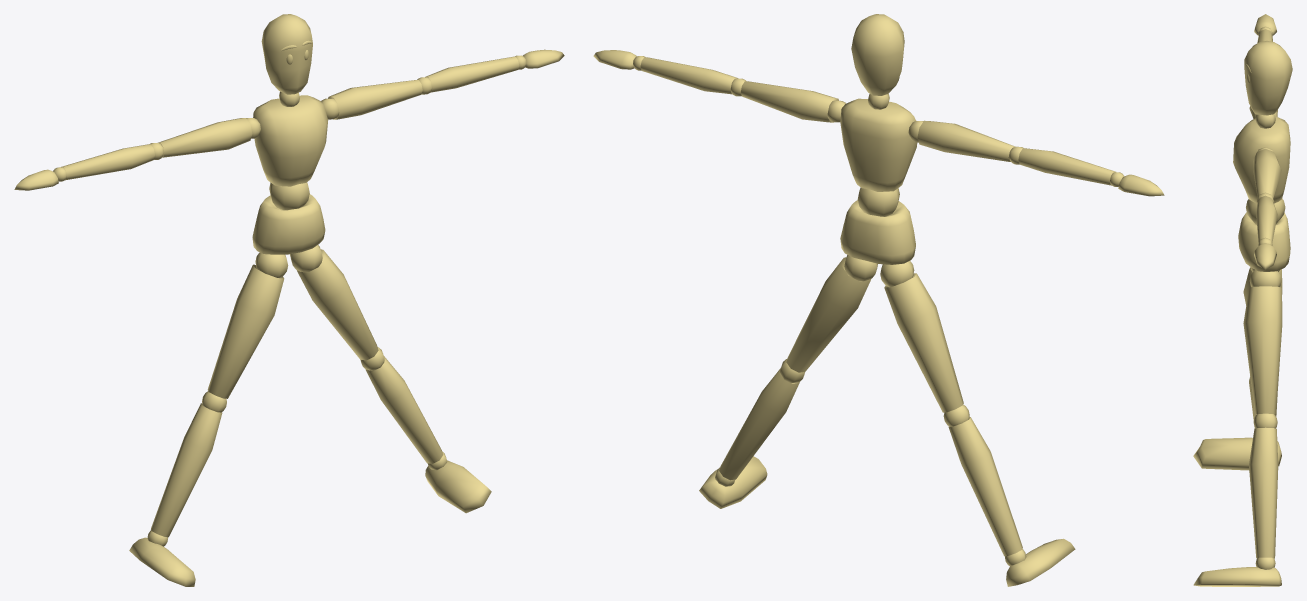
Rendered from MannaquinFace.dae.
The picture shows the model from 3 angles, left to right: view 1: azimuth 30°, elevation 25°; view 2: azimuth 150°, elevation 25°; view 3: azimuth 270°, elevation 25°; orthographic projection. The views are drawn at different scales.
Parts seen in each view (by area): view 1: Cylinder_003, Cylinder_002, Cylinder_001, Cylinder_006, Cylinder, Sphere_008, Cylinder_007, Cylinder_004, Cylinder_009, Sphere_014, Sphere, Cylinder_005 (+2 smaller); view 2: Cylinder_003, Cylinder_002, Cylinder_001, Cylinder_006, Cylinder, Sphere_008, Cylinder_007, Cylinder_004, Cylinder_009, Cylinder_005, Cylinder_008, Sphere_014 (+3 smaller); view 3: Cylinder_006, Cylinder_007, Cylinder_003, Sphere_008, Cylinder_002, Sphere, Sphere_014, Cylinder_009, Cylinder_008, Sphere_016, Sphere_009, Cylinder_001 (+1 smaller).
Boxes of the visible parts, x1=… form: Cylinder_003: x1=246, y1=91, x2=339, y2=186; Cylinder_002: x1=252, y1=182, x2=325, y2=277; Cylinder_001: x1=202, y1=264, x2=284, y2=412; Cylinder_006: x1=297, y1=249, x2=384, y2=370; Cylinder: x1=151, y1=403, x2=222, y2=537; Sphere_008: x1=261, y1=14, x2=312, y2=94; Cylinder_007: x1=365, y1=356, x2=443, y2=463; Cylinder_004: x1=149, y1=118, x2=252, y2=159; Cylinder_009: x1=328, y1=77, x2=432, y2=119; Sphere_014: x1=425, y1=451, x2=491, y2=513; Sphere: x1=129, y1=530, x2=195, y2=586; Cylinder_005: x1=61, y1=144, x2=154, y2=180; Cylinder_003: x1=827, y1=94, x2=923, y2=191; Cylinder_002: x1=840, y1=187, x2=915, y2=287; Cylinder_001: x1=884, y1=273, x2=969, y2=426; Cylinder_006: x1=780, y1=257, x2=870, y2=383; Cylinder: x1=948, y1=417, x2=1022, y2=556; Sphere_008: x1=851, y1=14, x2=904, y2=95; Cylinder_007: x1=719, y1=368, x2=799, y2=480; Cylinder_004: x1=917, y1=120, x2=1023, y2=164; Cylinder_009: x1=730, y1=78, x2=838, y2=122; Cylinder_005: x1=1018, y1=148, x2=1115, y2=185; Cylinder_008: x1=640, y1=57, x2=738, y2=94; Sphere_014: x1=699, y1=456, x2=767, y2=508; Cylinder_006: x1=1243, y1=286, x2=1282, y2=428; Cylinder_007: x1=1249, y1=427, x2=1278, y2=558; Cylinder_003: x1=1233, y1=114, x2=1290, y2=203; Sphere_008: x1=1244, y1=41, x2=1292, y2=115; Cylinder_002: x1=1238, y1=198, x2=1290, y2=286; Sphere: x1=1193, y1=437, x2=1281, y2=470; Sphere_014: x1=1193, y1=557, x2=1281, y2=586; Cylinder_009: x1=1253, y1=149, x2=1281, y2=202; Cylinder_008: x1=1256, y1=195, x2=1277, y2=243; Sphere_016: x1=1254, y1=237, x2=1276, y2=269; Sphere_009: x1=1254, y1=14, x2=1276, y2=35; Cylinder_001: x1=1243, y1=268, x2=1282, y2=305.
Size of the model in its own units: 14.87 by 2.47 by 13.31.
